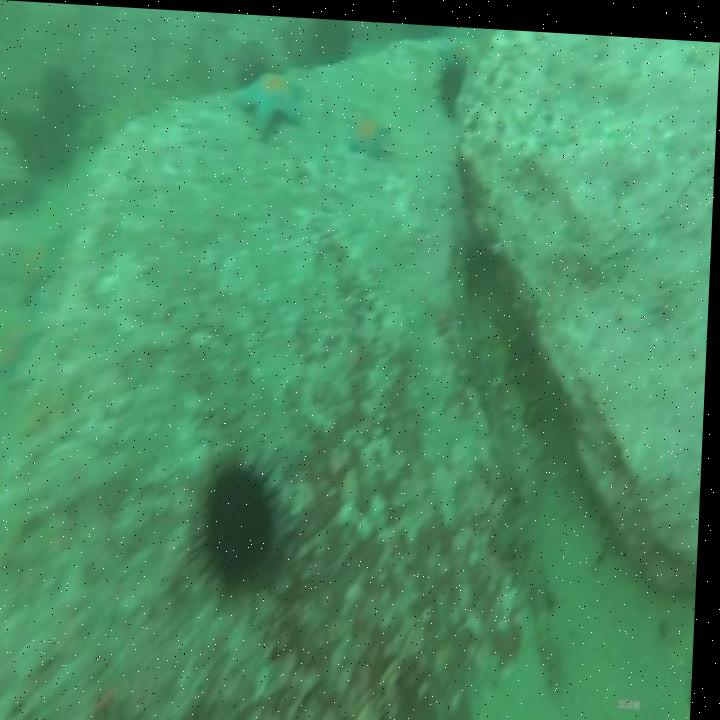echinus: (203, 458, 284, 583), (34, 68, 88, 130), (436, 49, 470, 109)
holothurian: (482, 307, 552, 458), (10, 225, 63, 300)
starfish: (242, 59, 306, 135), (348, 100, 391, 150)
